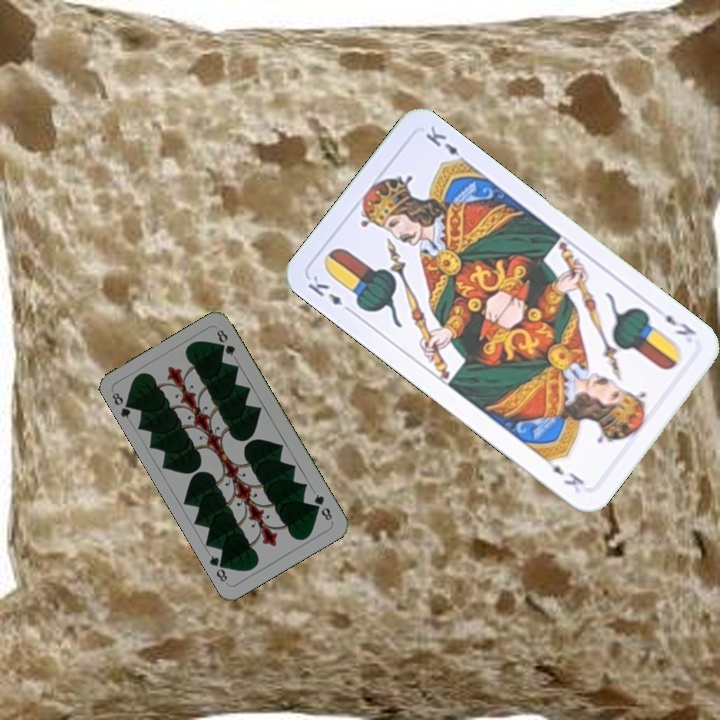EK: (303, 271, 356, 317), (661, 310, 699, 339)
G8: (108, 388, 136, 421), (310, 490, 335, 523)
